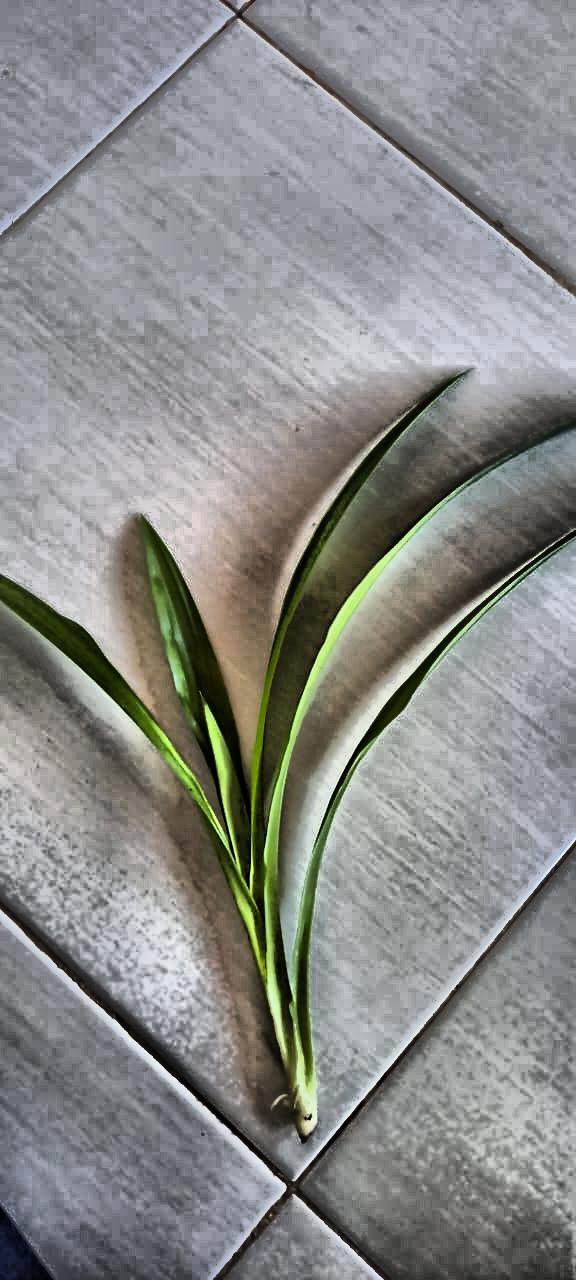daun pandan: (0, 375, 575, 1141)
